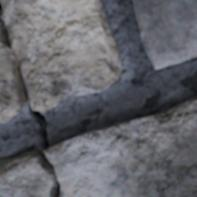brick: (133, 0, 196, 68)
broken_brick: (46, 94, 196, 196), (2, 0, 122, 112), (0, 149, 49, 196), (0, 43, 23, 123)
crack: (0, 0, 61, 196)
